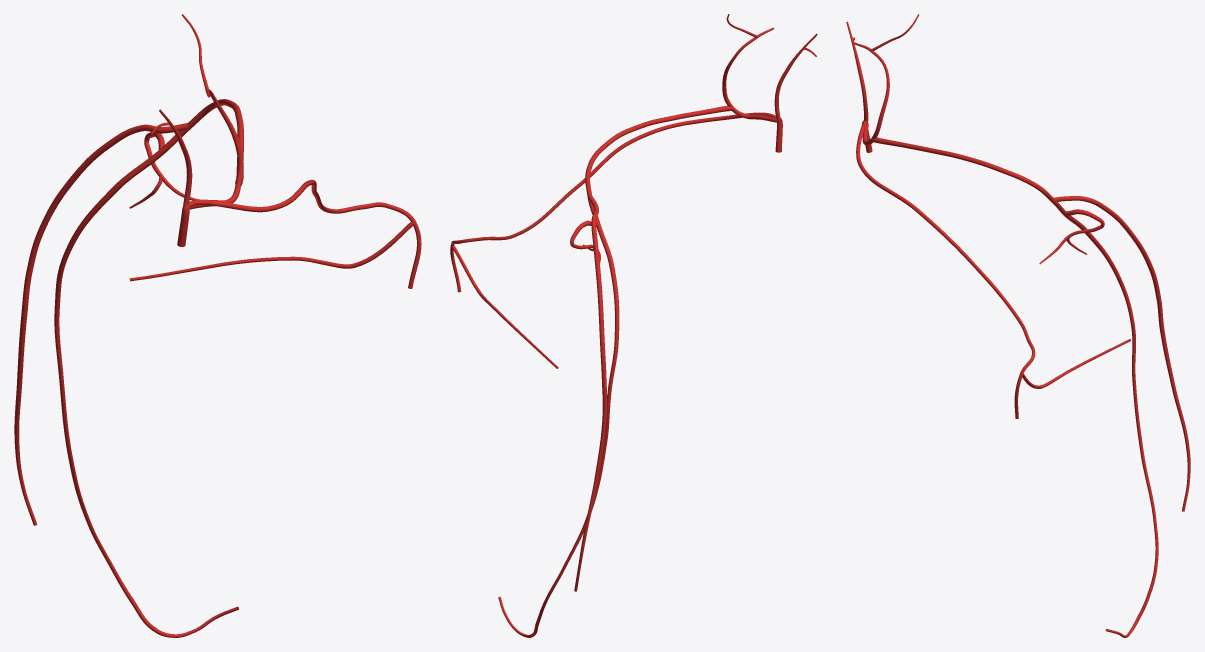
Rendered from circulatorio-thyrocervical-trunk-l.glb.
3 renders of one model, left to right at view 1: azimuth 30°, elevation 25°; view 2: azimuth 150°, elevation 25°; view 3: azimuth 270°, elevation 25°, orthographic. The views are drawn at different scales.
Parts seen in each view (by area): view 1: (Deep branch of transverse cervical artery).l, Suprascapular artery.l, (Superficial branch of transverse cervical artery).l, Transverse cervical artery.l, Inferior thyroid artery.l; view 2: (Deep branch of transverse cervical artery).l, Suprascapular artery.l, (Superficial branch of transverse cervical artery).l, Transverse cervical artery.l; view 3: (Deep branch of transverse cervical artery).l, Suprascapular artery.l, (Superficial branch of transverse cervical artery).l, Transverse cervical artery.l.
Boxes of the visible parts, x1,y1,x2,y2 form: (Deep branch of transverse cervical artery).l: (54,99,243,637); Suprascapular artery.l: (129,179,421,288); (Superficial branch of transverse cervical artery).l: (14,123,188,525); Transverse cervical artery.l: (181,14,243,209); Inferior thyroid artery.l: (151,109,192,206); (Deep branch of transverse cervical artery).l: (498,105,732,637); Suprascapular artery.l: (450,112,776,368); (Superficial branch of transverse cervical artery).l: (574,194,607,591); Transverse cervical artery.l: (722,14,779,122); (Deep branch of transverse cervical artery).l: (871,137,1158,637); Suprascapular artery.l: (856,120,1130,418); (Superficial branch of transverse cervical artery).l: (1054,196,1190,511); Transverse cervical artery.l: (853,14,919,145).
Bounding box in the file's own units: 0.1152 × 0.2204 × 0.1203.
